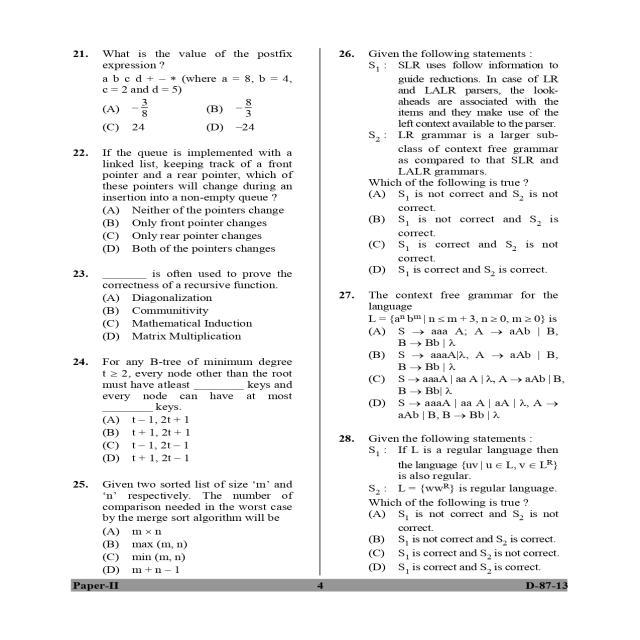Answer_Block: (334, 326, 566, 422), (334, 187, 566, 279), (334, 506, 566, 576), (59, 204, 315, 256), (59, 294, 315, 344), (59, 414, 315, 464), (59, 526, 315, 576), (59, 95, 316, 138)
Question_Answer_Block: (334, 43, 566, 279), (334, 429, 566, 576), (334, 287, 566, 423), (59, 350, 315, 465), (59, 142, 315, 256), (59, 474, 315, 576), (59, 44, 316, 138), (59, 262, 315, 344)
Question_Block: (334, 43, 566, 189), (334, 430, 566, 504), (59, 350, 315, 413), (59, 141, 315, 203), (59, 474, 315, 526), (59, 44, 316, 94), (334, 287, 566, 325), (59, 263, 315, 292)
Question_Paper_Area: (59, 43, 316, 575), (334, 43, 567, 576)
